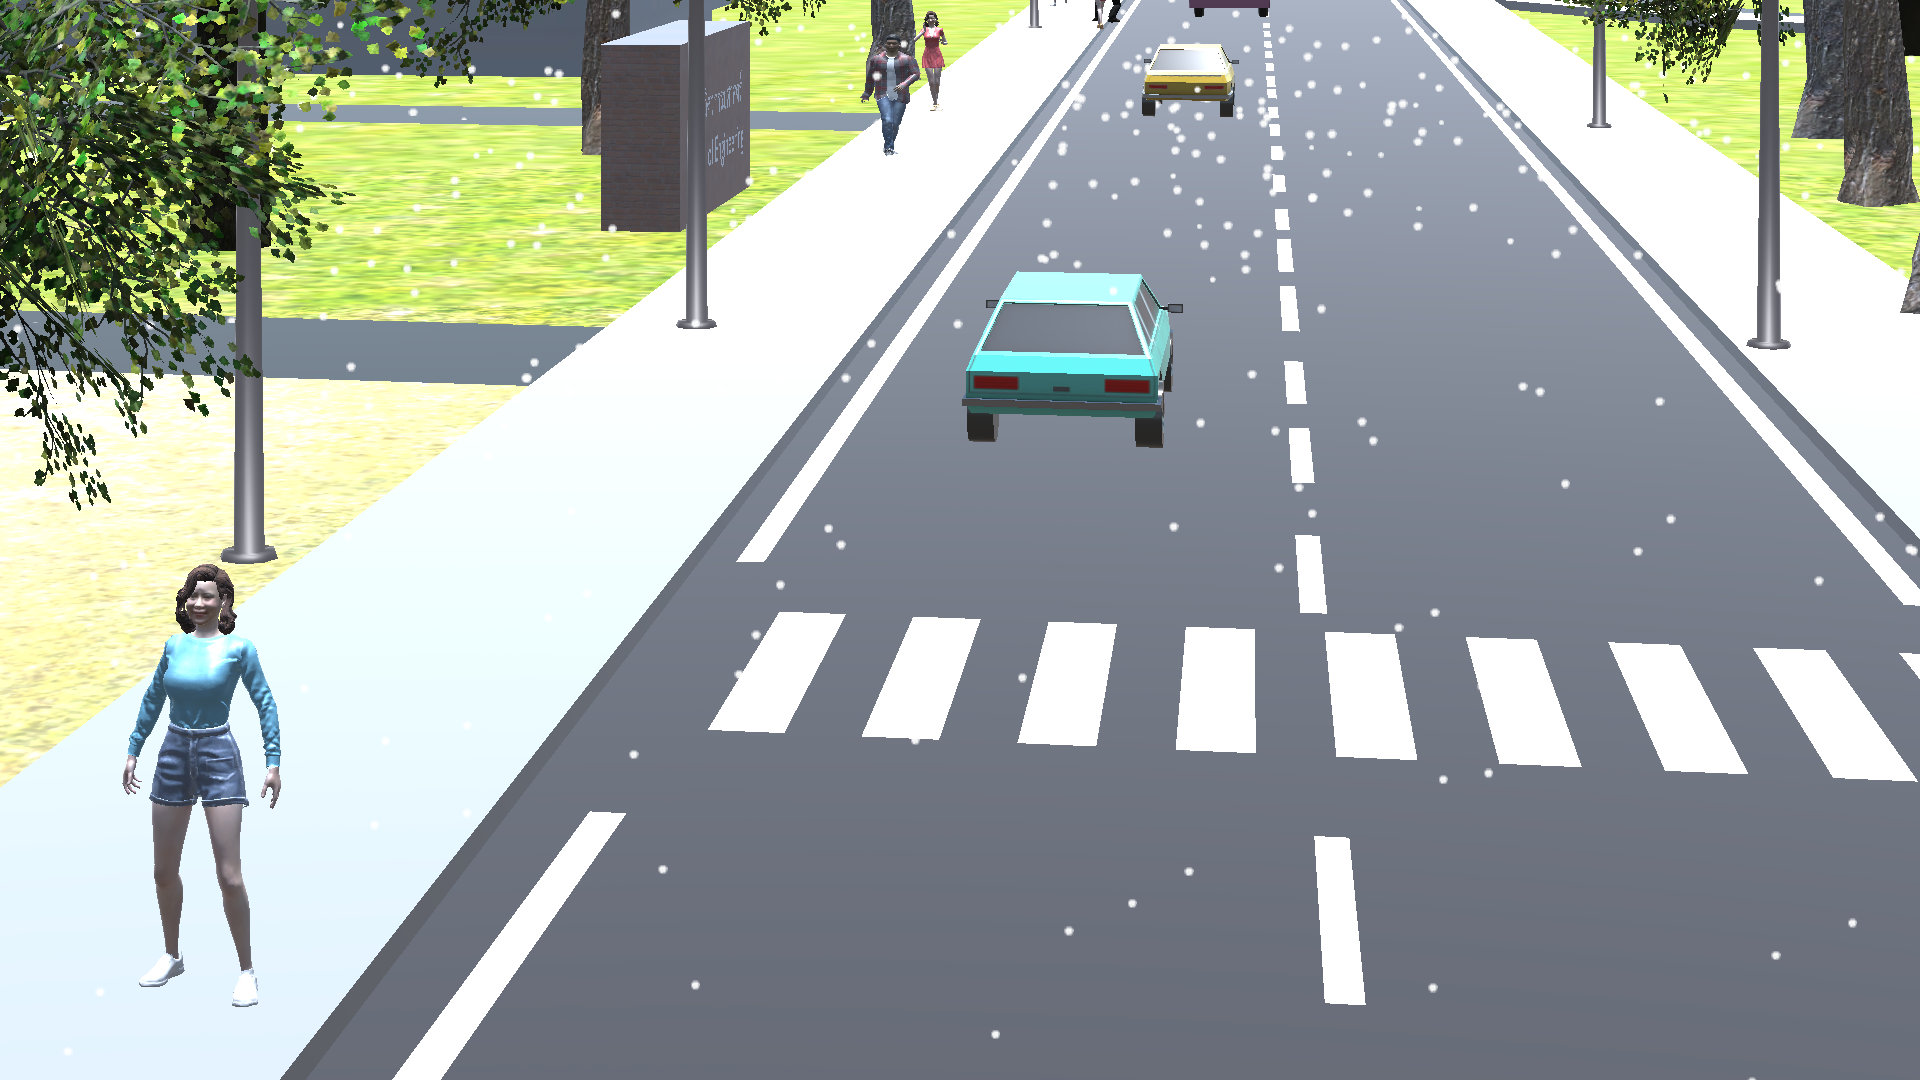pedestrian: (106, 546, 287, 1024), (858, 27, 915, 163), (916, 2, 960, 116)
